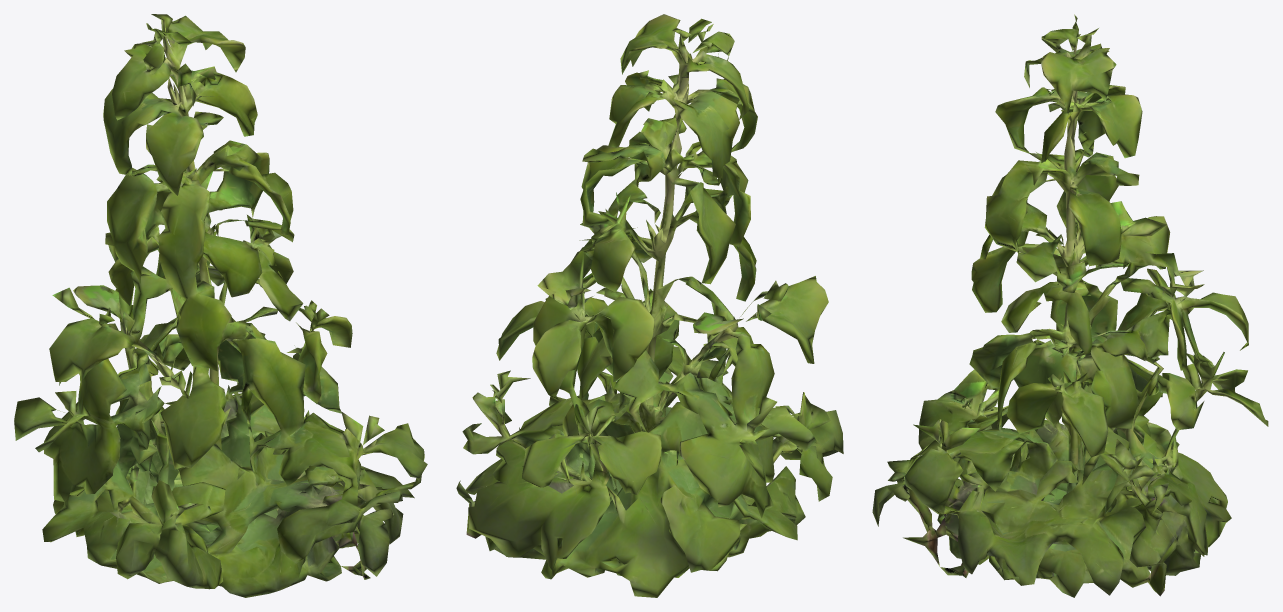
Rendered from tulsi_compressed.glb.
3 views of the same model, side by side, from view 1: azimuth 30°, elevation 25°; view 2: azimuth 150°, elevation 25°; view 3: azimuth 270°, elevation 25° (orthographic). The views are drawn at different scales.
Parts seen in each view (by area): view 1: Object_4; view 2: Object_4; view 3: Object_4.
Boxes of the visible parts, x1,y1,x2,y2 form: Object_4: (14,14,427,597); Object_4: (456,14,843,597); Object_4: (872,14,1268,597).
Size of the model in its own units: 1.3 by 1.96 by 1.41.
1 material, 1 textured.
